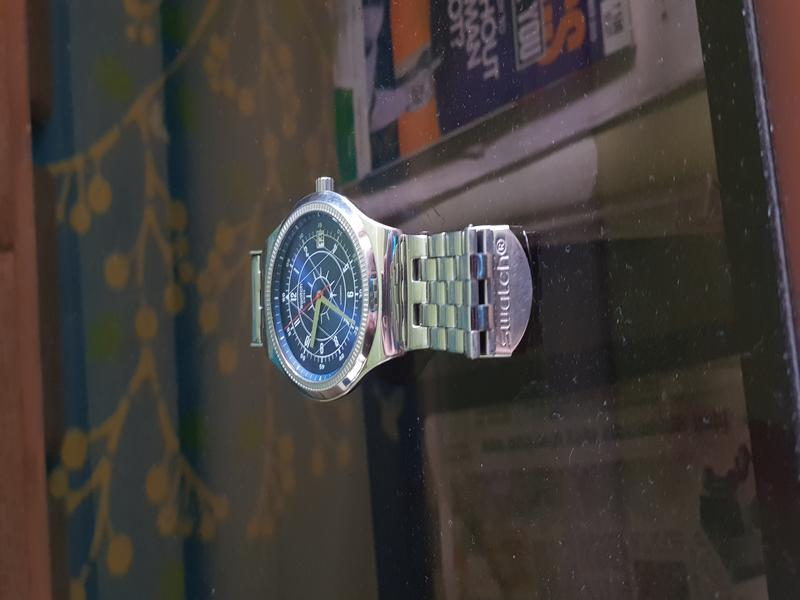watch: (201, 163, 553, 390)
